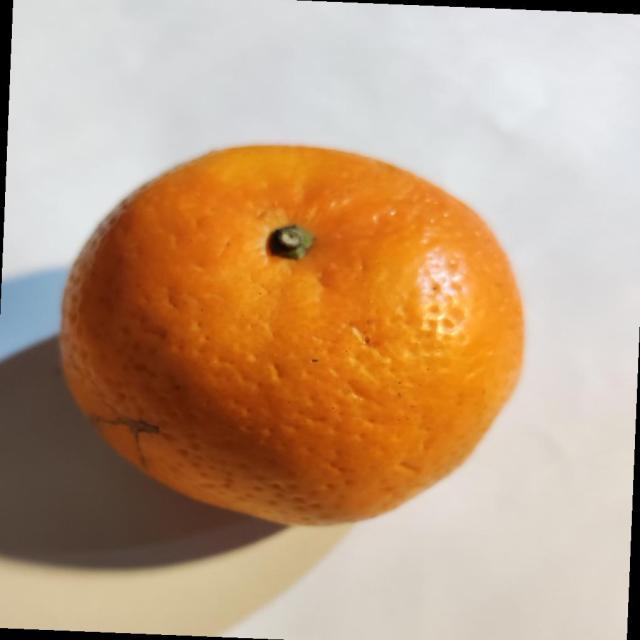fresh orange: (58, 141, 526, 528)
